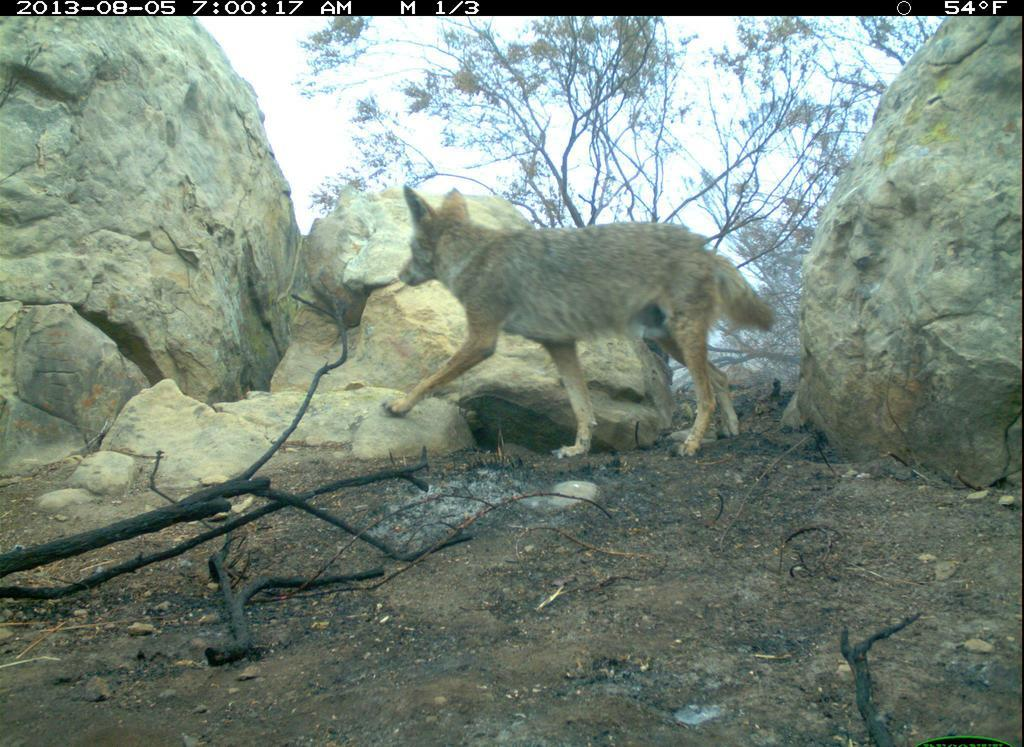coyote: (379, 181, 783, 482)
